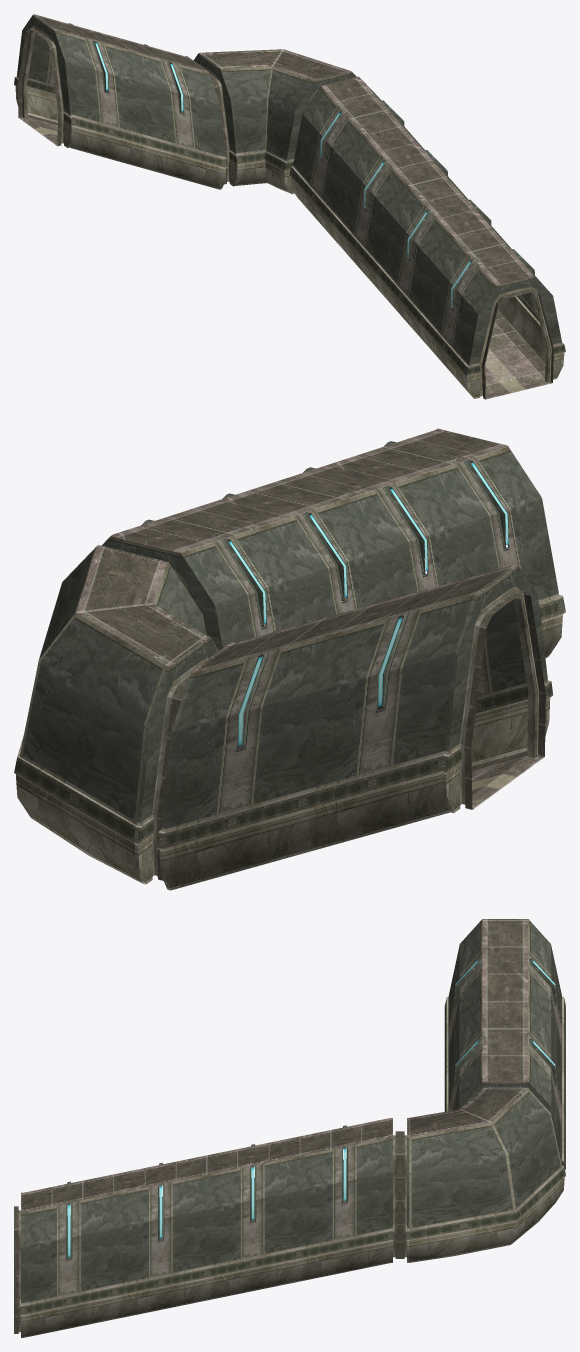
File: thm_yavn_jedi_enclave_light_r23_traininghall_mesh_r23.fbx
3 views of the same model, one above another, from view 1: azimuth 30°, elevation 25°; view 2: azimuth 150°, elevation 25°; view 3: azimuth 270°, elevation 25° (orthographic). The views are drawn at different scales.
Parts seen in each view (by area): view 1: mesh_node; view 2: mesh_node; view 3: mesh_node.
Part boxes in pixels (x1,y1,x2,y2): mesh_node: (14,14,565,399); mesh_node: (14,428,565,890); mesh_node: (14,919,565,1337).
Size of the model in its own units: 9.9 by 8.17 by 15.01.
Materials: 3 (3 with a texture image).
